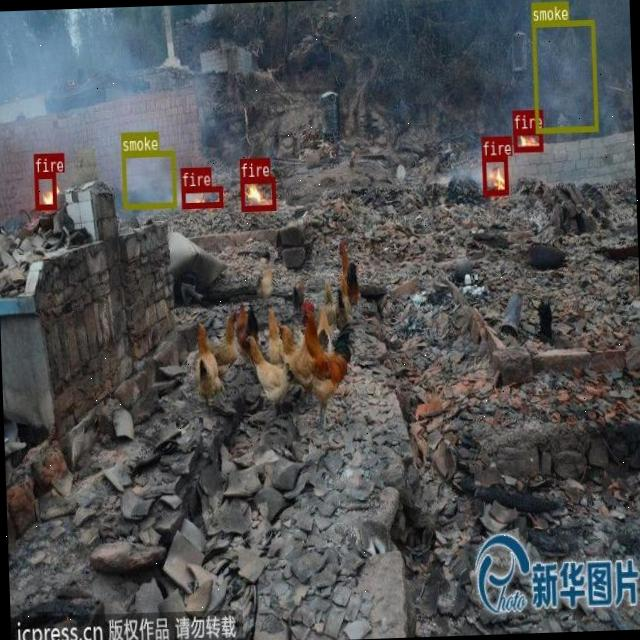fire: (240, 176, 275, 210), (482, 154, 508, 194), (181, 185, 223, 208), (35, 171, 56, 209), (512, 128, 542, 150)
smoke: (530, 20, 598, 132), (121, 150, 176, 208)
